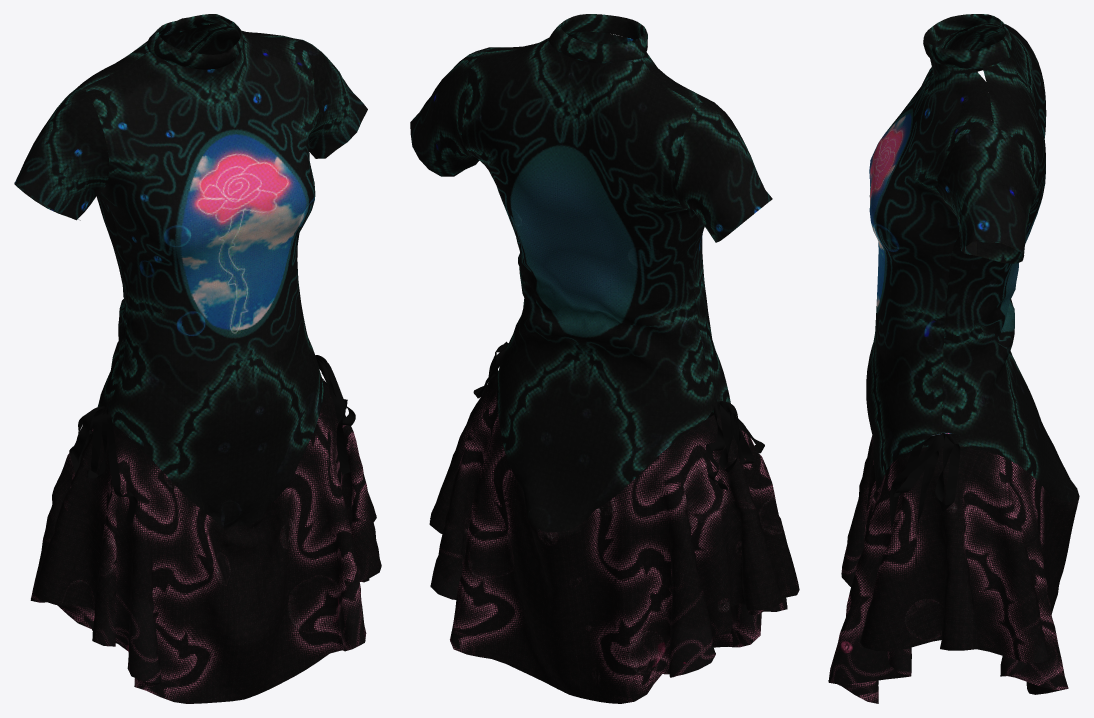
The model's file is rosauravestido.glb.
3 renders of one model, left to right at view 1: azimuth 30°, elevation 25°; view 2: azimuth 150°, elevation 25°; view 3: azimuth 270°, elevation 25°, orthographic. The views are drawn at different scales.
Parts seen in each view (by area): view 1: Vestido patron triangular, print rosa; view 2: Vestido patron triangular, print rosa; view 3: Vestido patron triangular, print rosa.
Part boxes in pixels (x1=…): Vestido patron triangular, print rosa: x1=14, y1=14, x2=381, y2=703; Vestido patron triangular, print rosa: x1=410, y1=14, x2=799, y2=703; Vestido patron triangular, print rosa: x1=828, y1=14, x2=1079, y2=703.
Bounding box in the file's own units: 0.5907 × 1.05 × 0.3636.
8 materials, 7 textured.
